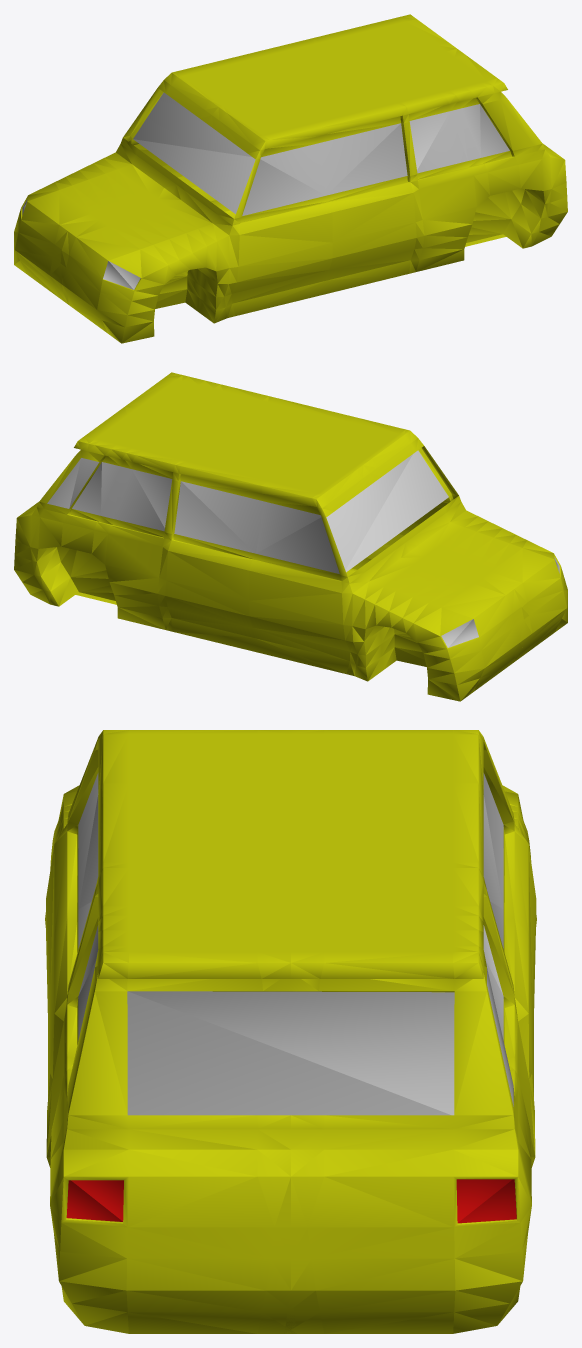
The model's file is voiture4.obj.
3 views of the same model, one above another, from view 1: azimuth 30°, elevation 25°; view 2: azimuth 150°, elevation 25°; view 3: azimuth 270°, elevation 25° (orthographic). The views are drawn at different scales.
Parts seen in each view (by area): view 1: Cube; view 2: Cube; view 3: Cube.
Boxes of the visible parts, left/top/right/bottom form: Cube: left=14, top=14, right=567, bottom=343; Cube: left=14, top=372, right=567, bottom=701; Cube: left=45, top=730, right=536, bottom=1333.
Bounding box in the file's own units: 11.58 × 3.83 × 5.32.
